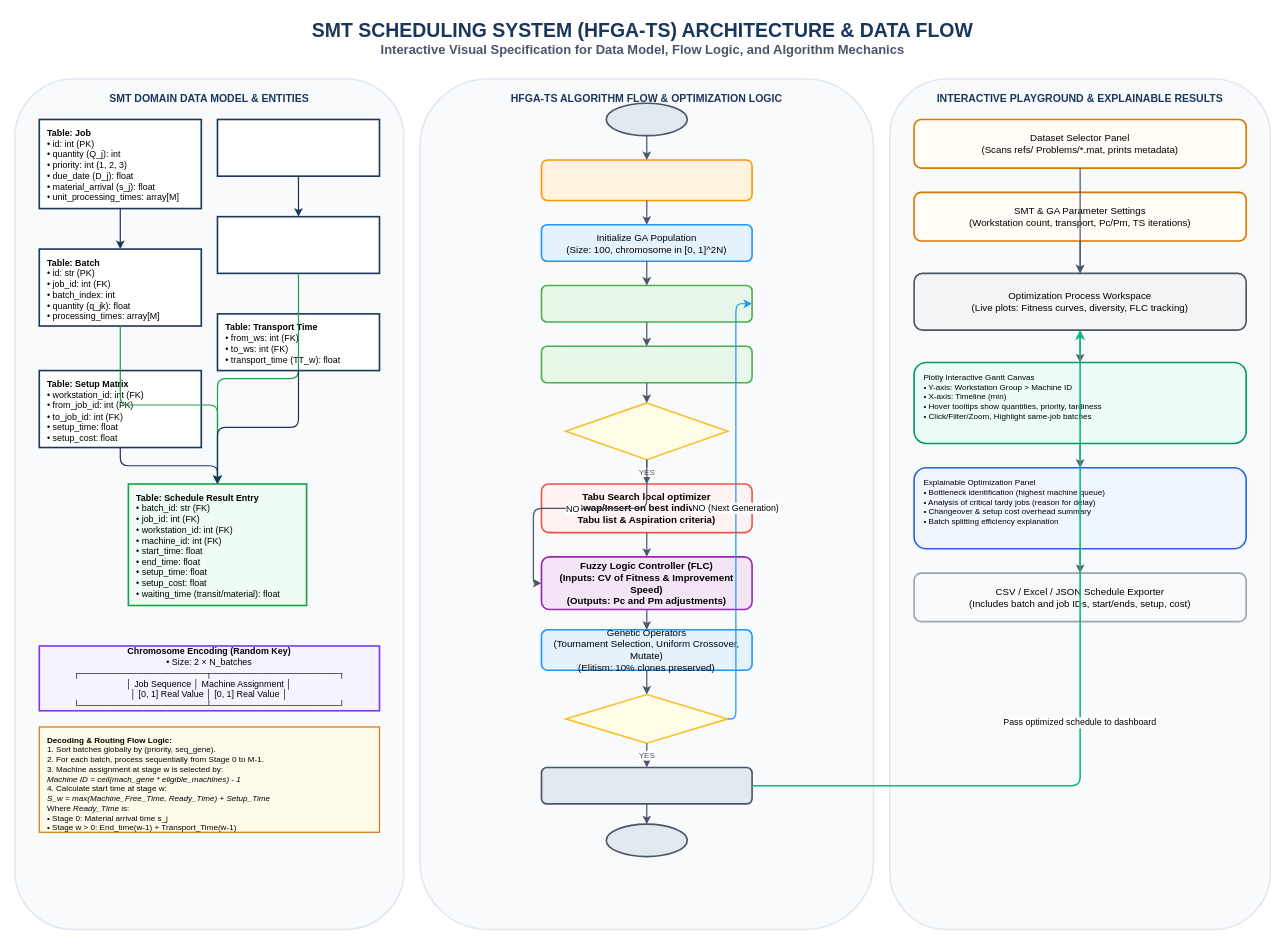
The diagram is 1285 pixels wide and 944 high, and some of its shapes have lost their labels. The centre of each missing label's shape, as x and y in pixels:
Batch Splitting Preprocessing (Split Jobs where Total PT > T_threshold): [646,180]
Chromosome Decoder (List scheduling, Setup costs/times, Transit): [646,303]
END: [646,840]
Evaluate Fitness (Minimize Total Tardiness & Setup Costs): [646,364]
Export Schedule & KPIs: [646,785]
Stall Limit reached? (No improvement for 100 gens): [646,431]
START: [646,119]
Table: Machine • id: int (PK) • workstation_id: int (FK) • name: str: [298,244]
Table: Workstation • id: int (PK) • name: str • num_machines (m_w): int: [298,147]
Termination Check (1000 generations or 10 min): [646,718]
